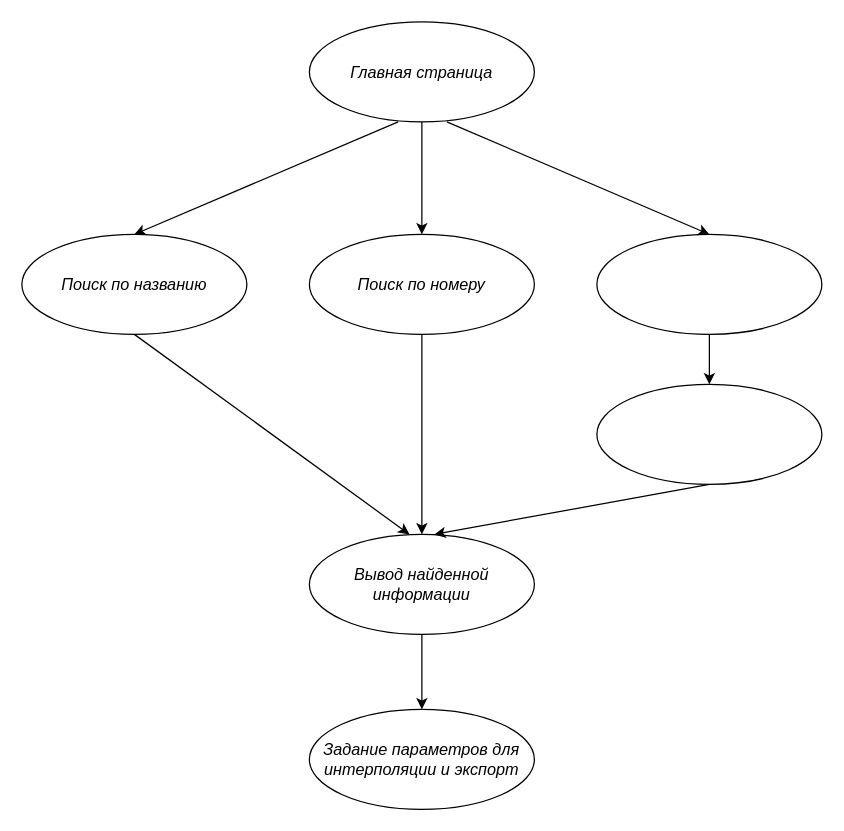
Some shapes in this 844 by 831 pixel diagram are drawn without their labels. Each missing label, with the box of its shape:
Отображение трех ближайших станций: (596, 383, 822, 484)
Поиск по географическим координатам: (596, 233, 822, 334)
